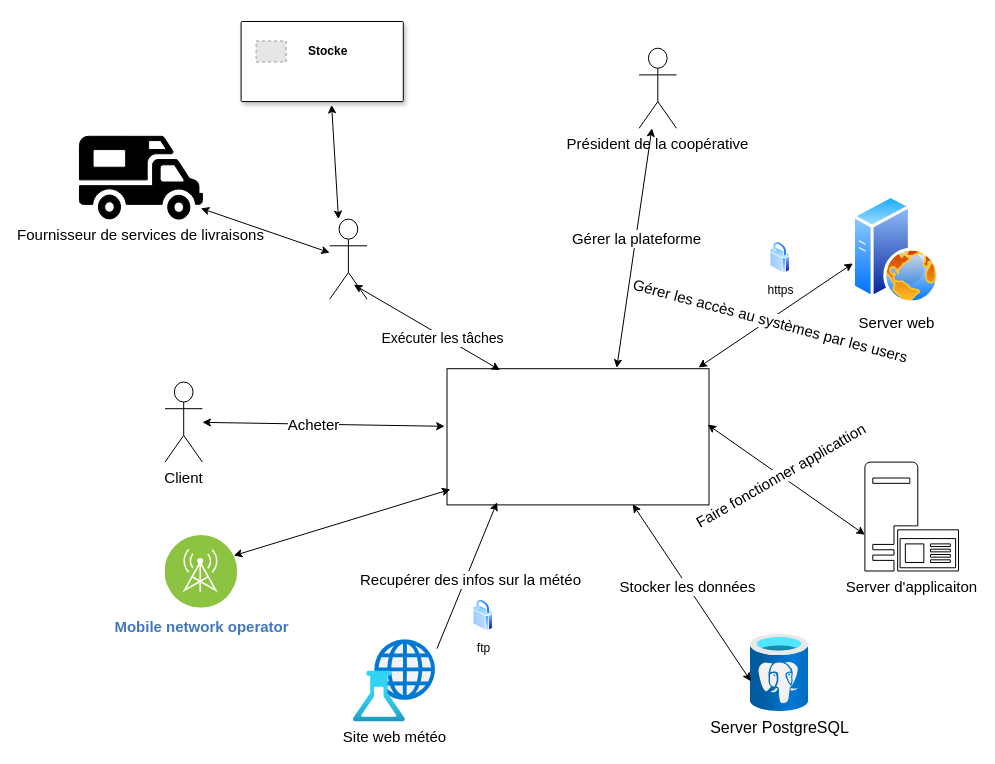
The diagram is 995 pixels wide and 764 high, and some of its shapes have lost their labels. Grey dashed boxes stand in for pictures. Each missing label, with the centre of its shape:
"Membres de la coopérative agricole" goes at (x=348, y=258).
"«Système» Platefome de gestion des coopétives agricoles" goes at (x=577, y=436).
